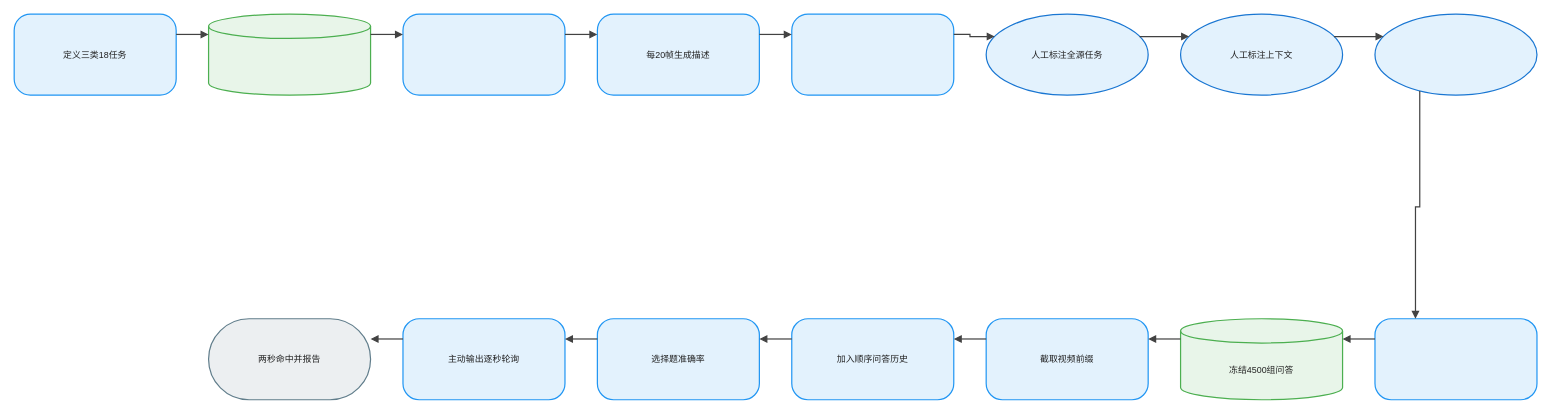
Image size: 1552x415. Some labels were removed from this diagram. Here are the shapes that lost their labels. From the top down, the centre of each, then its label:
At [289,54]: "筛选900段视频".
At [483,54]: "每秒采样一帧".
At [872,54]: "GPT-4o生成问答".
At [1455,54]: "人工质量复核".
At [1455,359]: "修正并过滤".
